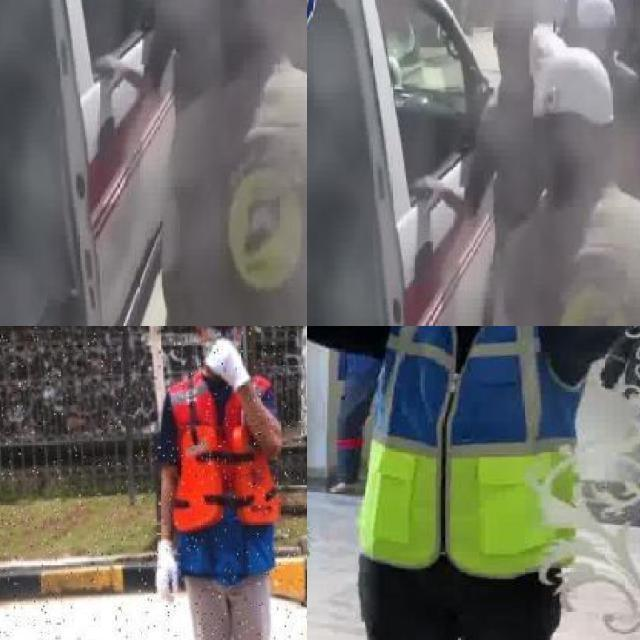apron: (204, 338, 252, 392), (150, 538, 182, 606)
